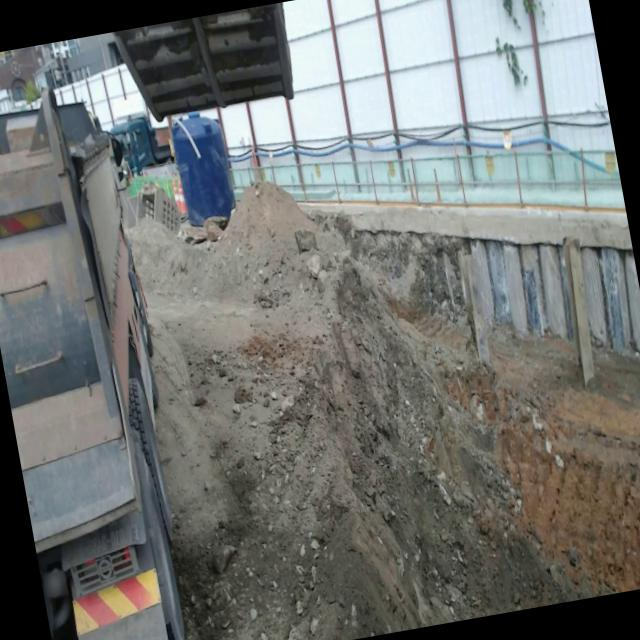white-sand: (129, 186, 640, 640)
